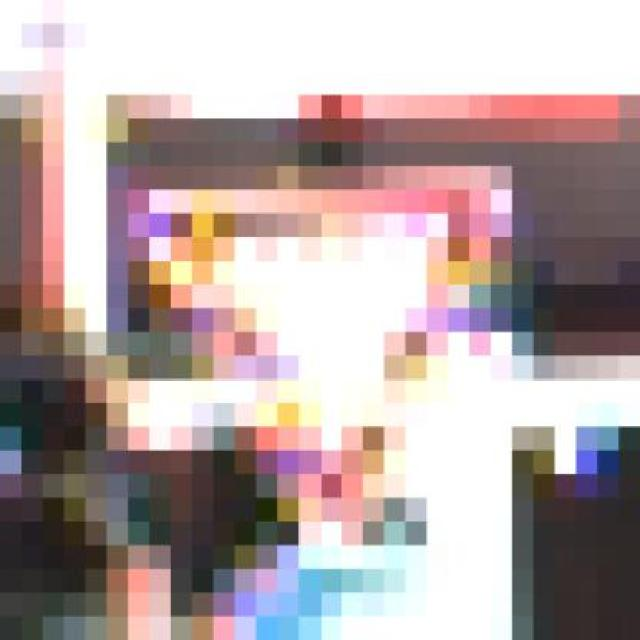Give Way: (106, 142, 534, 546)
